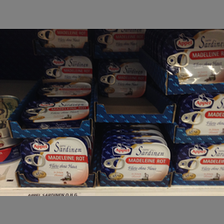fish: (19, 138, 89, 183), (161, 31, 224, 80), (100, 141, 171, 180), (20, 96, 90, 125), (174, 144, 224, 181), (180, 95, 224, 135), (41, 56, 93, 81)
